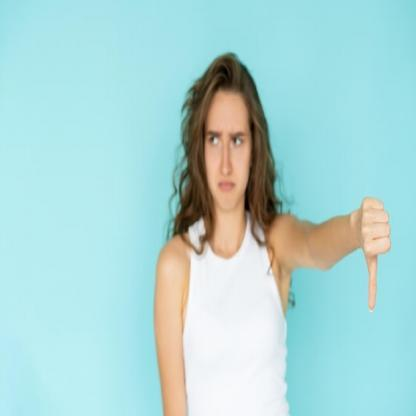thumb_down: (354, 193, 392, 316)
